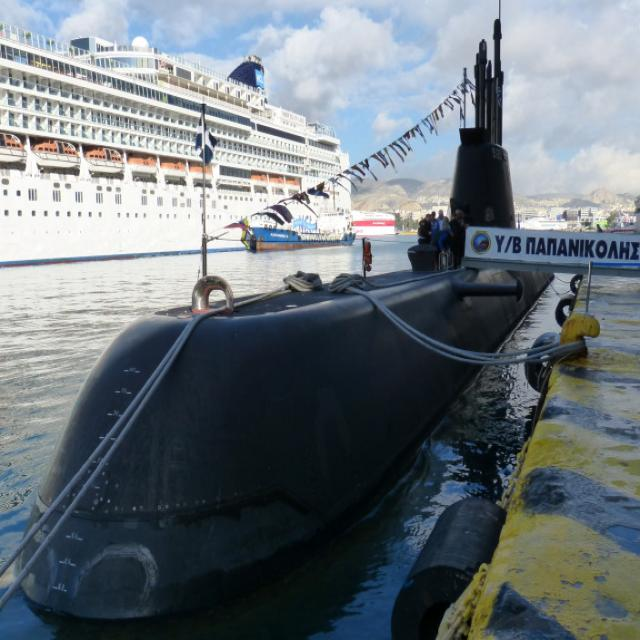submarine: (7, 1, 555, 620)
